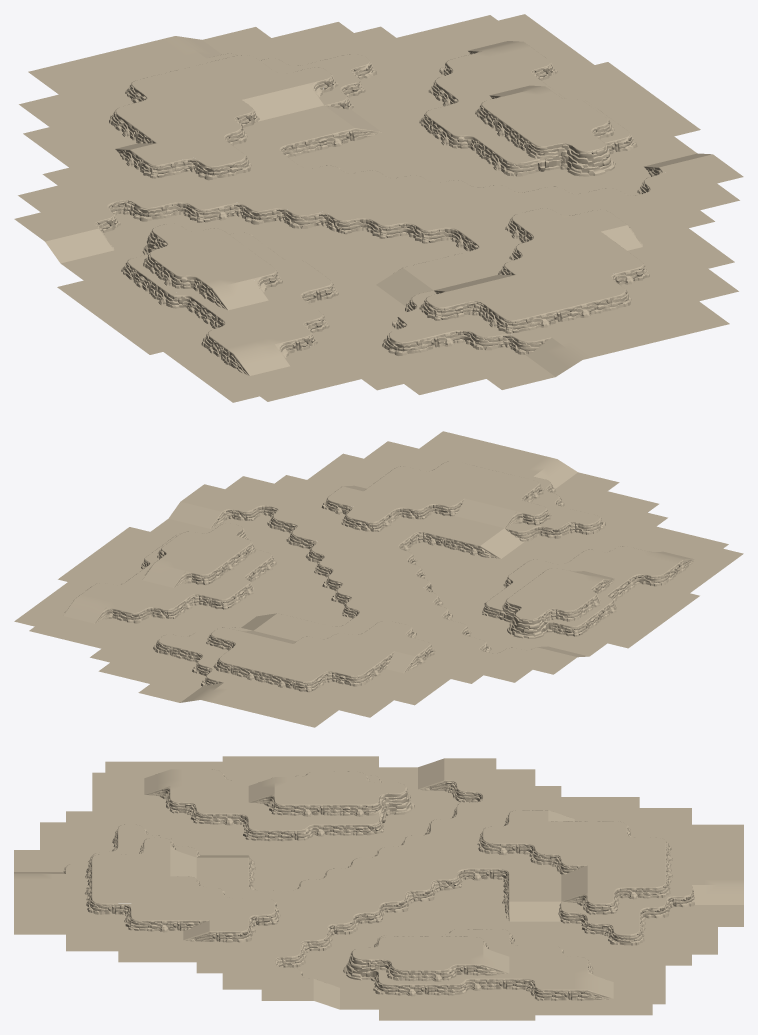
The model's file is ground_0001.fbx.
The picture shows the model from 3 angles, top to bottom: view 1: azimuth 30°, elevation 25°; view 2: azimuth 150°, elevation 25°; view 3: azimuth 270°, elevation 25°; orthographic projection. The views are drawn at different scales.
Parts seen in each view (by area): view 1: floor_layout, cliff_walls; view 2: floor_layout, cliff_walls; view 3: floor_layout, cliff_walls.
Part boxes in pixels (bbox=[...]): floor_layout: bbox=[14, 14, 743, 402]; cliff_walls: bbox=[91, 42, 666, 375]; floor_layout: bbox=[14, 431, 743, 727]; cliff_walls: bbox=[63, 461, 694, 692]; floor_layout: bbox=[14, 756, 743, 1020]; cliff_walls: bbox=[62, 769, 694, 1000].
Size of the model in its own units: 96 by 3.01 by 112.
